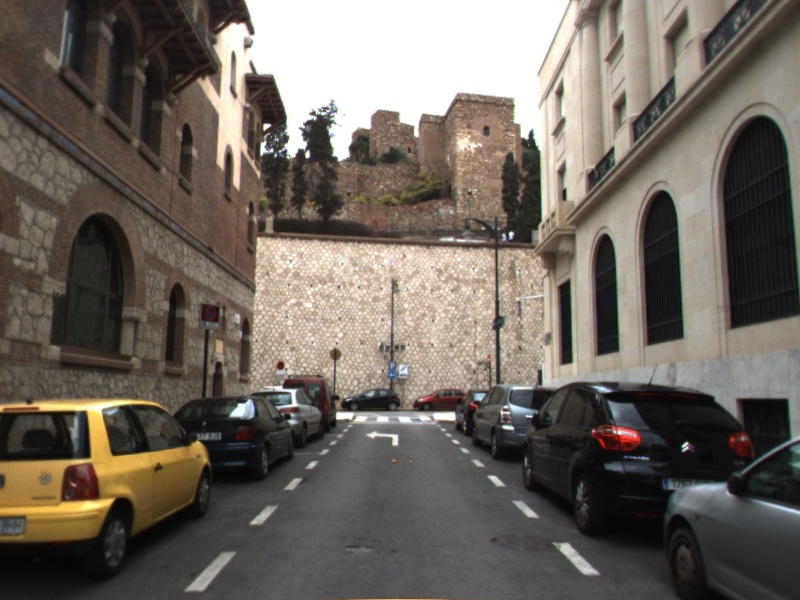LEFT: (364, 428, 400, 448)
